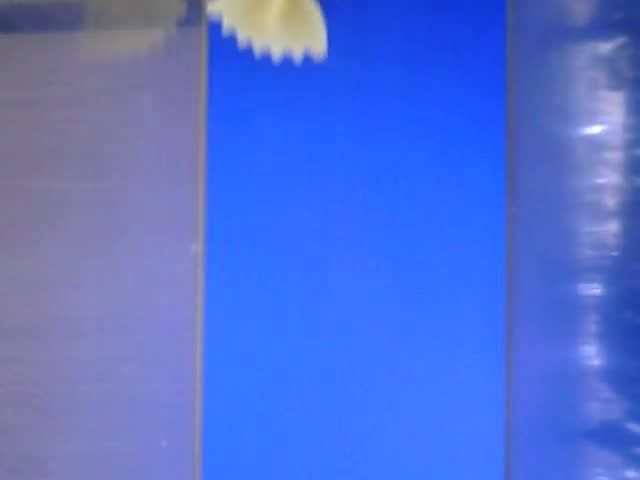farfalle: (207, 1, 330, 66)
